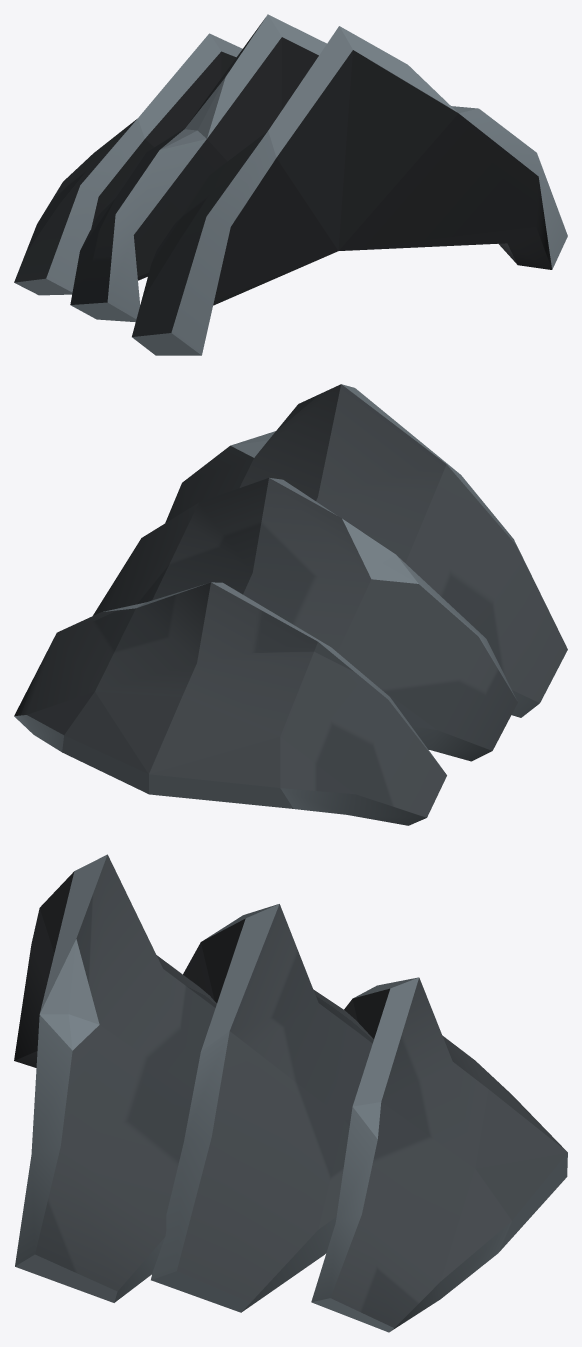
The model's file is SM_Chr_Attach_Armour_Dark_Neck_Medium_01.fbx.
3 views of the same model, one above another, from view 1: azimuth 30°, elevation 25°; view 2: azimuth 150°, elevation 25°; view 3: azimuth 270°, elevation 25° (orthographic). The views are drawn at different scales.
Parts seen in each view (by area): view 1: SM_Chr_Attach_Armour_Dark_Neck_Medium_01; view 2: SM_Chr_Attach_Armour_Dark_Neck_Medium_01; view 3: SM_Chr_Attach_Armour_Dark_Neck_Medium_01.
Part boxes in pixels (box(x1,y1,x2,y2)): SM_Chr_Attach_Armour_Dark_Neck_Medium_01: box(14, 14, 567, 355); SM_Chr_Attach_Armour_Dark_Neck_Medium_01: box(14, 384, 567, 825); SM_Chr_Attach_Armour_Dark_Neck_Medium_01: box(14, 854, 567, 1332).
Bounding box in the file's own units: 26.99 × 19.09 × 25.76.
